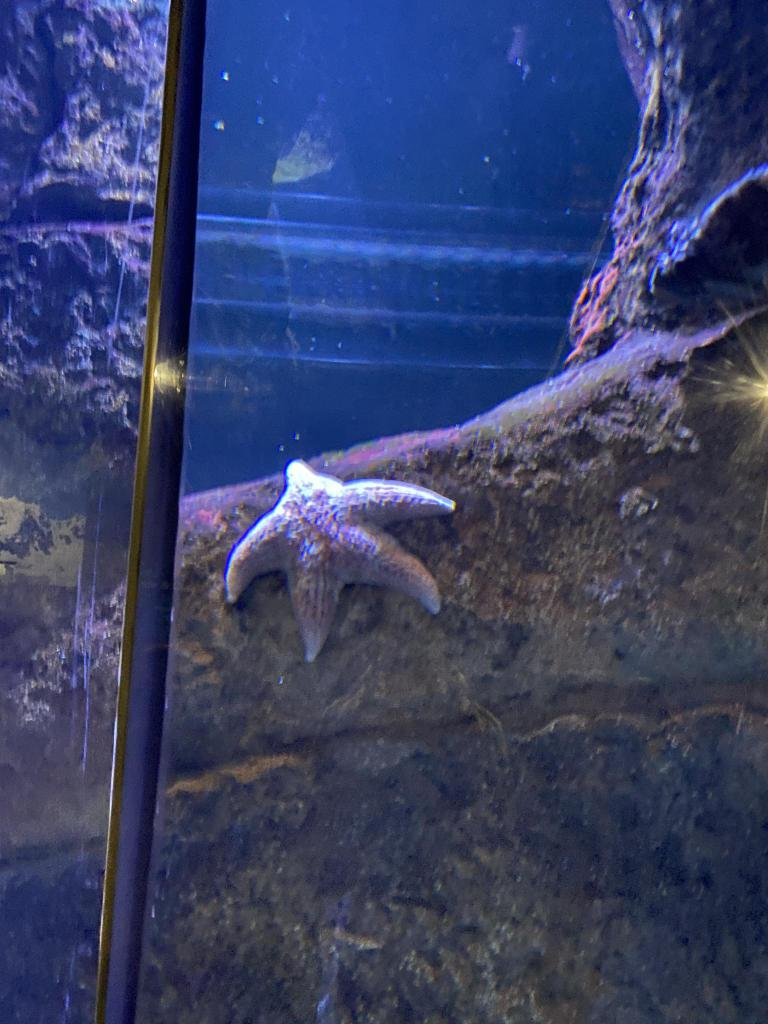starfish: (229, 454, 465, 646)
